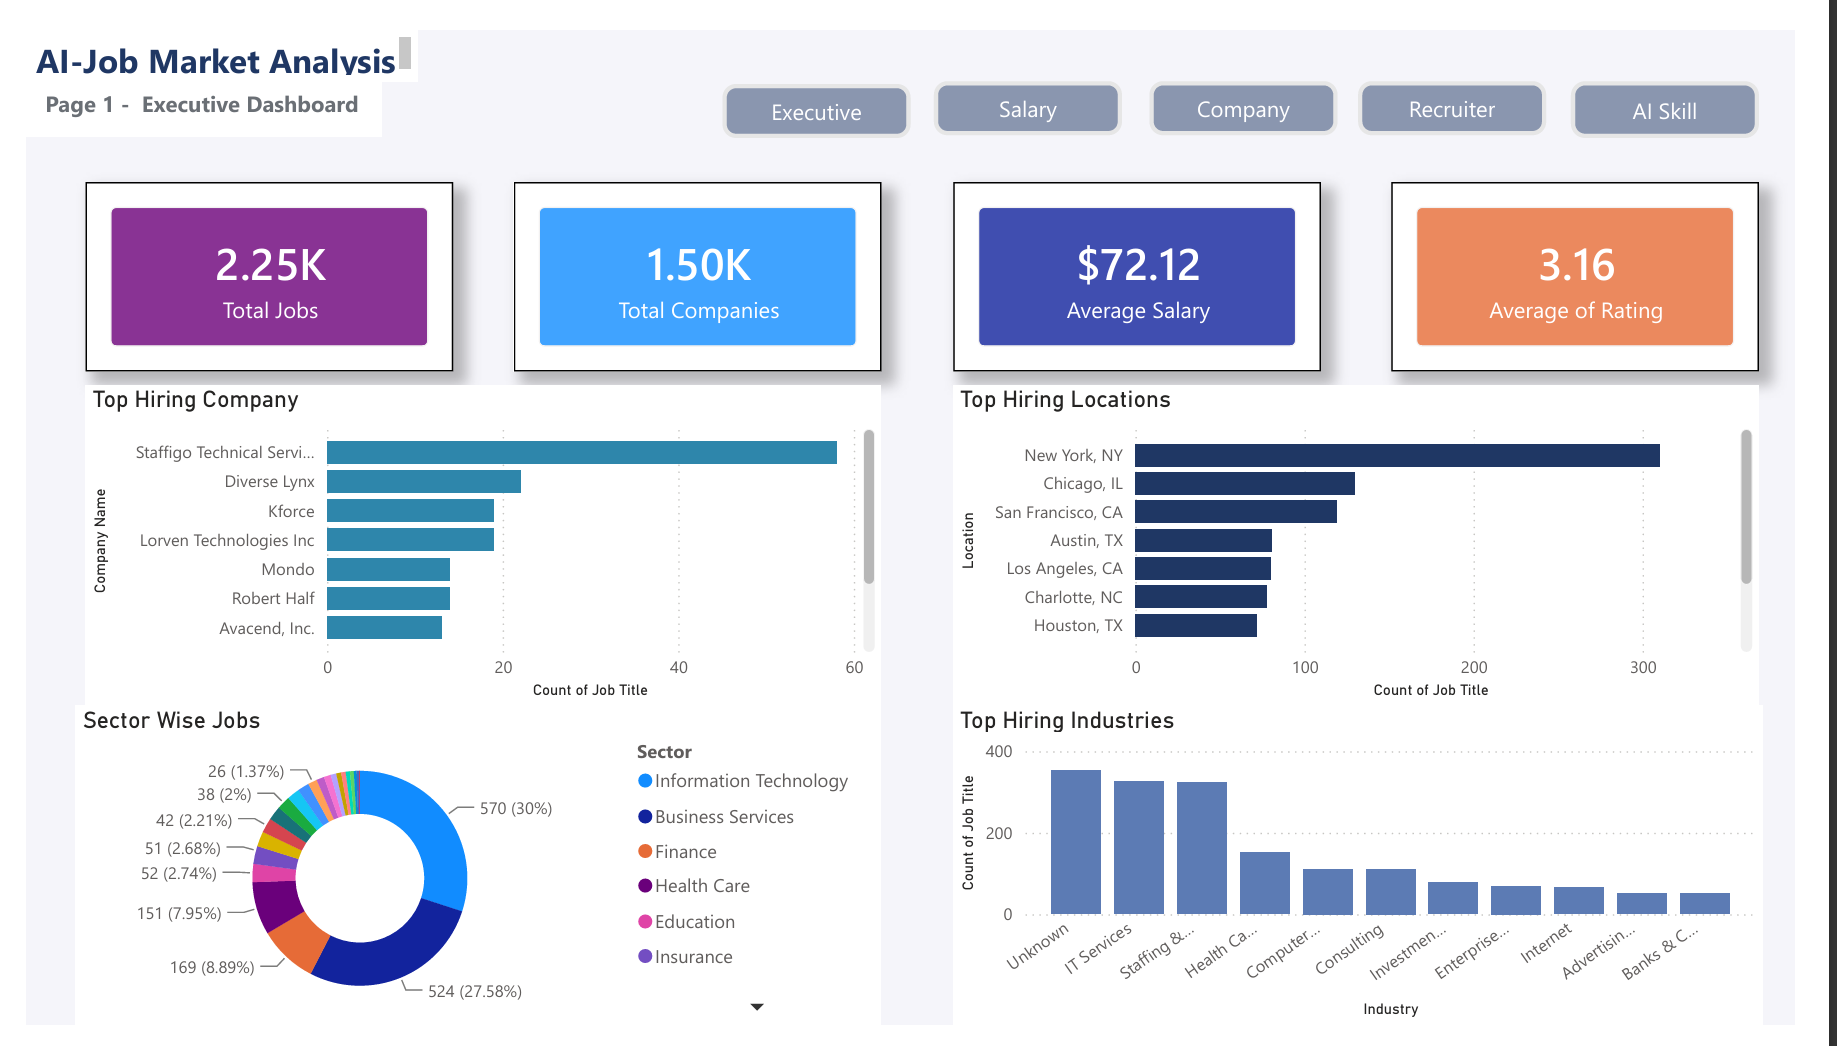

What the dashboard file says about the page in this screenshot:
{"tool":"powerbi","page":{"name":"Executive Dashboard","canvas":[1280,720],"ordinal":0},"visuals":[{"type":"textbox","box":[0,0,282.7,37.4],"z":0},{"type":"textbox","box":[0,37.1,257.1,40],"z":1000},{"type":"actionButton","box":[504.4,38.8,135.8,38.8],"z":2000},{"type":"actionButton","box":[813.3,37.4,135.8,38.8],"z":3000},{"type":"actionButton","box":[964.4,37.4,135.8,38.8],"z":4000},{"type":"actionButton","box":[656.8,37.4,135.8,38.8],"z":5000},{"type":"cardVisual","fields":{"Data":["jobs_sql.Total Companies"]},"box":[352.7,109.8,266.2,137.2],"z":6000},{"type":"cardVisual","fields":{"Data":["jobs_sql.Average Salary"]},"box":[671,109.8,266.2,137.2],"z":7000},{"type":"cardVisual","fields":{"Data":["Avg(jobs_sql.Rating)"]},"box":[988,109.8,266.2,137.2],"z":8000},{"type":"cardVisual","fields":{"Data":["jobs_sql.Total Jobs"]},"box":[42.5,109.8,266.2,137.2],"z":9000},{"type":"clusteredBarChart","title":"Top Hiring Locations","fields":{"Category":["jobs_sql.Location"],"Y":["CountNonNull(jobs_sql.Job Title)"]},"box":[671.4,257.1,582.9,231.4],"z":10000},{"type":"clusteredColumnChart","title":"Top Hiring Industries","fields":{"Y":["CountNonNull(jobs_sql.Job Title)"],"Category":["jobs_sql.Industry"]},"box":[671,489,586,231],"z":11000},{"type":"clusteredBarChart","title":"Top Hiring Company ","fields":{"Category":["jobs_sql.Company Name"],"Y":["CountNonNull(jobs_sql.Job Title)"]},"box":[42.9,257.1,575.7,231.4],"z":12000},{"type":"donutChart","title":"Sector Wise Jobs","fields":{"Category":["jobs_sql.Sector"],"Y":["CountNonNull(jobs_sql.Job Title)"]},"box":[35.7,488.6,582.9,231.4],"z":13000},{"type":"actionButton","box":[1118.2,37.4,135.8,40.2],"z":13001}]}

Visuals, with their boxes in screenshot pixels (x1, y1, x2, y2), scaled from the page's 1280x720 canvas onto the 1837x1046 screenshot:
textbox: left=0, top=0, right=406, bottom=54
textbox: left=0, top=54, right=369, bottom=112
actionButton: left=724, top=56, right=919, bottom=113
actionButton: left=1167, top=54, right=1362, bottom=111
actionButton: left=1384, top=54, right=1579, bottom=111
actionButton: left=943, top=54, right=1138, bottom=111
cardVisual - jobs_sql.Total Companies: left=506, top=160, right=888, bottom=359
cardVisual - jobs_sql.Average Salary: left=963, top=160, right=1345, bottom=359
cardVisual - Avg(jobs_sql.Rating): left=1418, top=160, right=1800, bottom=359
cardVisual - jobs_sql.Total Jobs: left=61, top=160, right=443, bottom=359
"Top Hiring Locations" clusteredBarChart: left=964, top=374, right=1800, bottom=710
"Top Hiring Industries" clusteredColumnChart: left=963, top=710, right=1804, bottom=1045
"Top Hiring Company " clusteredBarChart: left=62, top=374, right=888, bottom=710
"Sector Wise Jobs" donutChart: left=51, top=710, right=888, bottom=1045
actionButton: left=1605, top=54, right=1800, bottom=113
